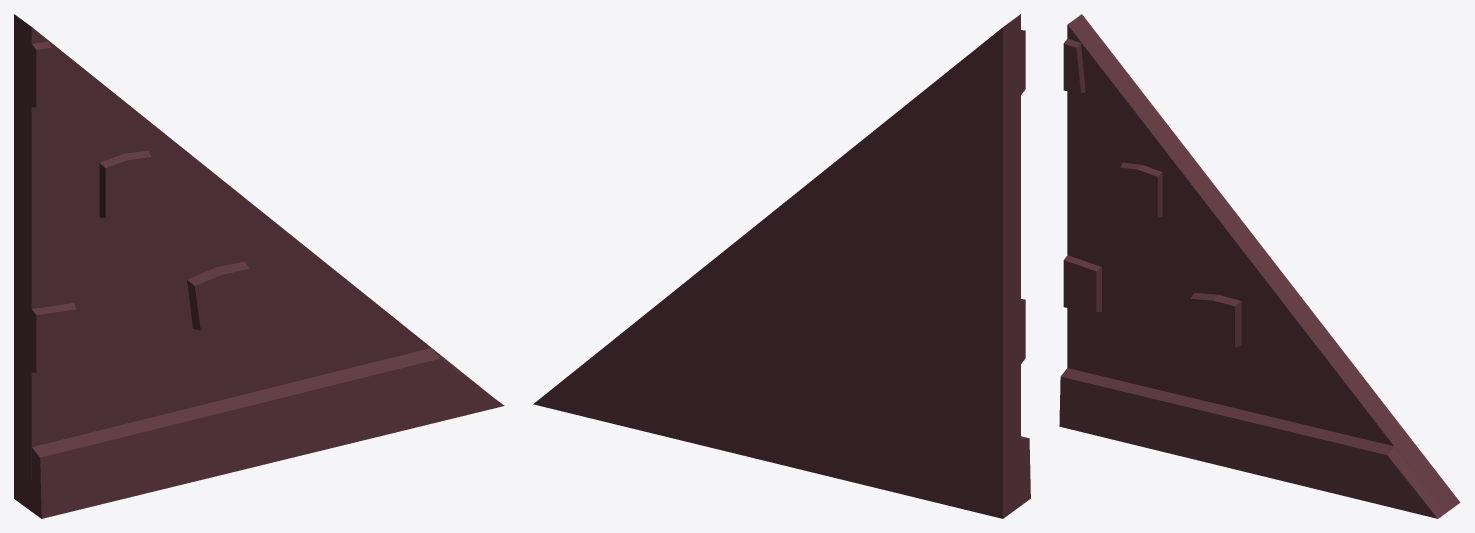
File: empire-stone-wall-verical-r-3x3-moss-empire.glb
3 renders of one model, left to right at view 1: azimuth 30°, elevation 25°; view 2: azimuth 150°, elevation 25°; view 3: azimuth 330°, elevation 25°, orthographic. The views are drawn at different scales.
Parts seen in each view (by area): view 1: SM_Stone_Wall_Verical_R_3x3_Moss_Empire; view 2: SM_Stone_Wall_Verical_R_3x3_Moss_Empire; view 3: SM_Stone_Wall_Verical_R_3x3_Moss_Empire.
Boxes of the visible parts, left/top/right/bottom form: SM_Stone_Wall_Verical_R_3x3_Moss_Empire: left=14, top=14, right=504, bottom=518; SM_Stone_Wall_Verical_R_3x3_Moss_Empire: left=533, top=14, right=1030, bottom=518; SM_Stone_Wall_Verical_R_3x3_Moss_Empire: left=1059, top=14, right=1460, bottom=518.
Bounding box in the file's own units: 3 × 3 × 0.3082.
